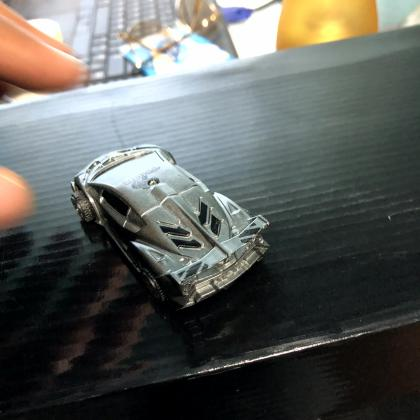Car: (70, 145, 269, 314)
